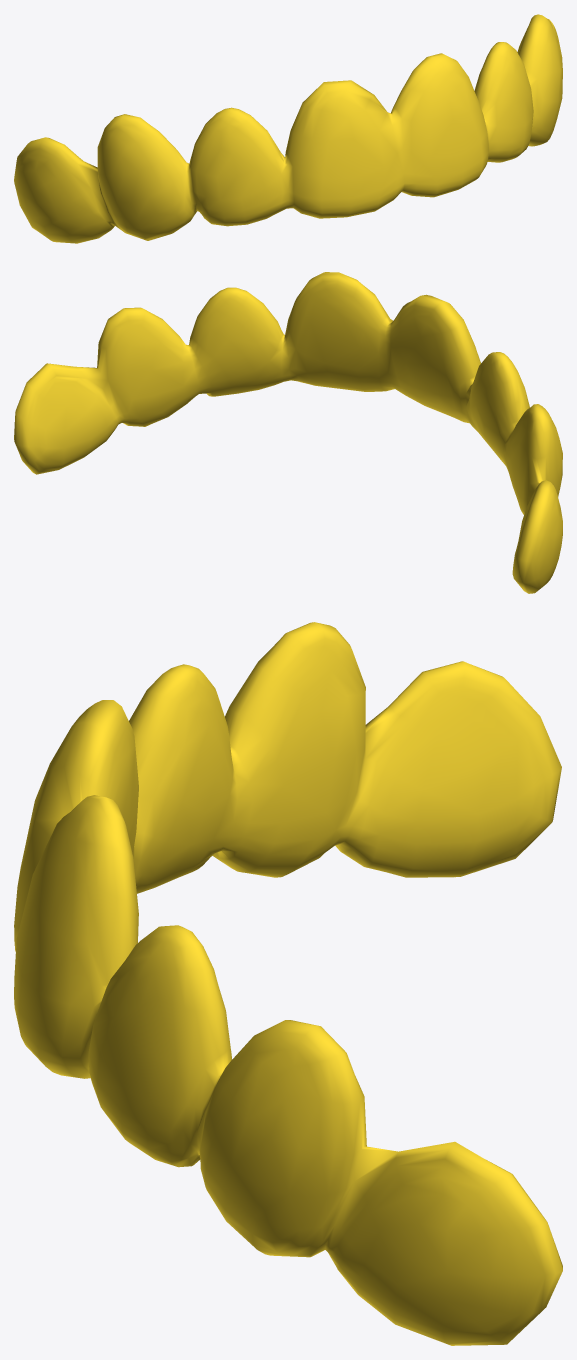
Rendered from grillz-top.glb.
3 renders of one model, top to bottom at view 1: azimuth 30°, elevation 25°; view 2: azimuth 150°, elevation 25°; view 3: azimuth 270°, elevation 25°, orthographic. The views are drawn at different scales.
Visible parts, largest first — view 1: Mesh0.001; view 2: Mesh0.001; view 3: Mesh0.001.
Part boxes in pixels (x1,y1,x2,y2): Mesh0.001: (14,14,562,243); Mesh0.001: (14,272,562,593); Mesh0.001: (14,622,562,1345).
Size of the model in its own units: 0.3351 by 0.1083 by 0.1513.
